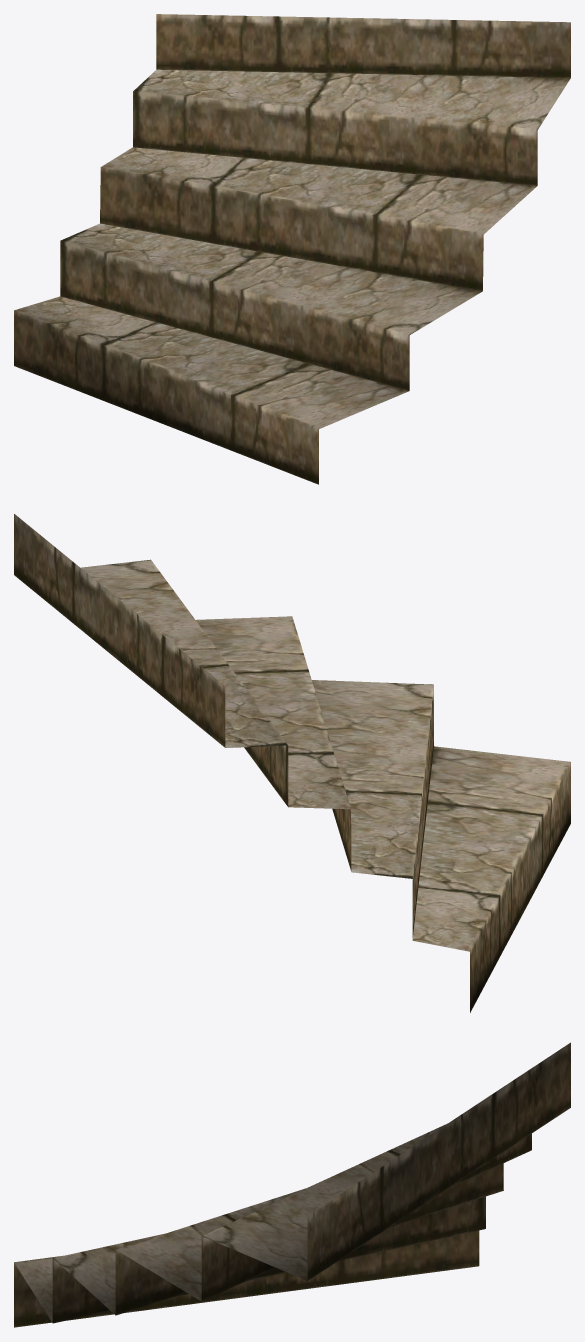
Rendered from OVERHILL_A_01_WALL9.fbx.
The picture shows the model from 3 angles, top to bottom: view 1: azimuth 30°, elevation 25°; view 2: azimuth 150°, elevation 25°; view 3: azimuth 270°, elevation 25°; orthographic projection. The views are drawn at different scales.
Visible parts, largest first — view 1: OVERHILL_A_01_WALL9; view 2: OVERHILL_A_01_WALL9; view 3: OVERHILL_A_01_WALL9.
Part boxes in pixels (<box>): OVERHILL_A_01_WALL9: <box>14,14,570,484</box>; OVERHILL_A_01_WALL9: <box>14,514,570,1012</box>; OVERHILL_A_01_WALL9: <box>14,1042,570,1327</box>.
Size of the model in its own units: 25783 by 14214 by 21882.
1 material, 1 textured.
